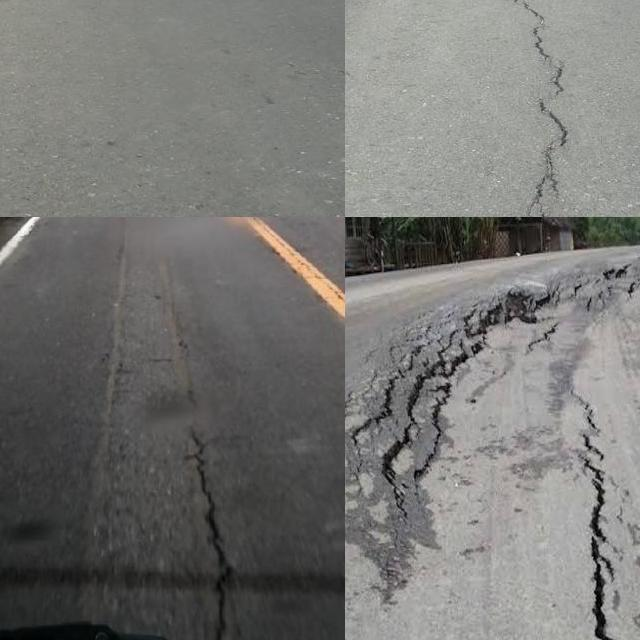Memanjang: (345, 248, 621, 584), (157, 275, 241, 640), (567, 379, 634, 640), (513, 0, 580, 217)
